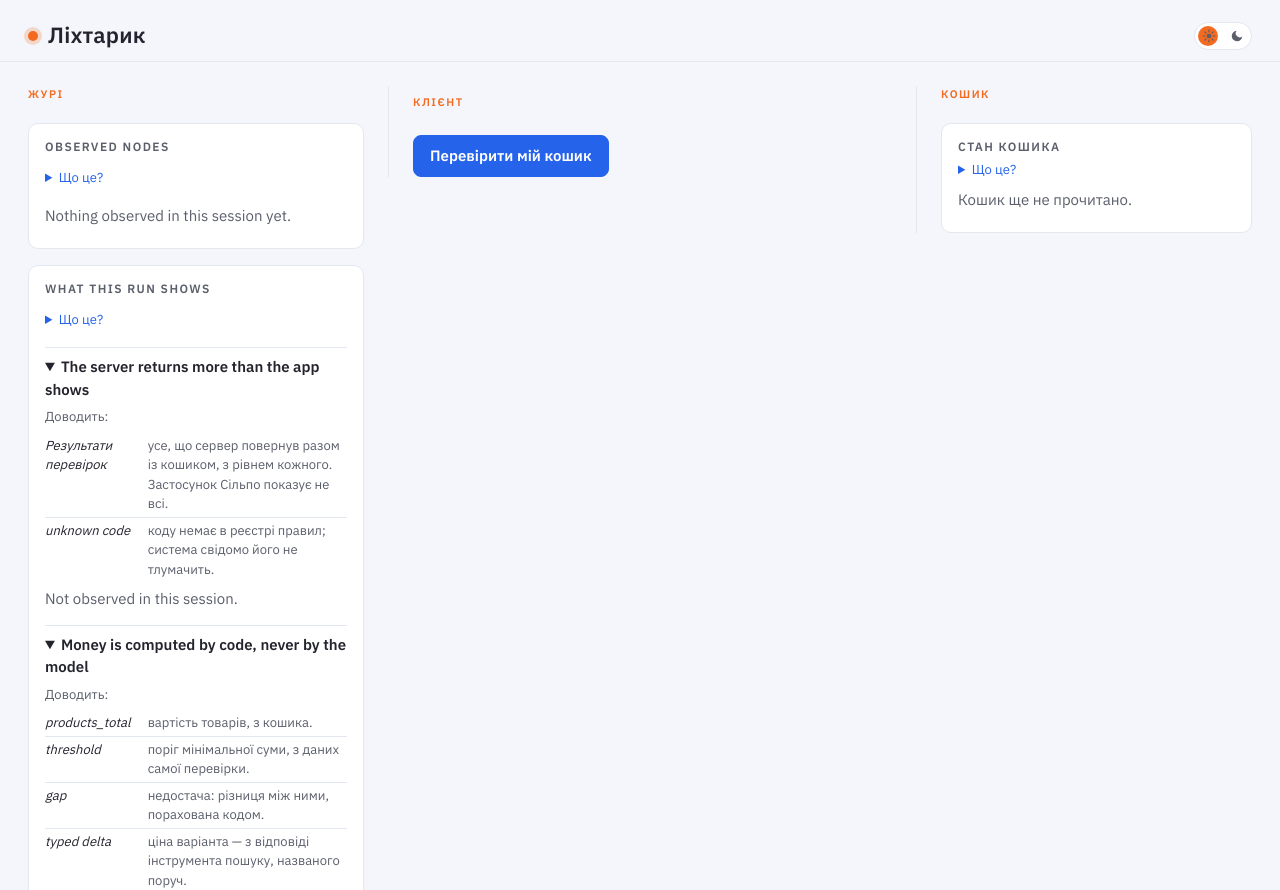
it: recovery card › keeps round 1's receipt visible through a second consent round
Click the button "Перевірити мій кошик". click: (511, 156)
box: [413,134,609,177]
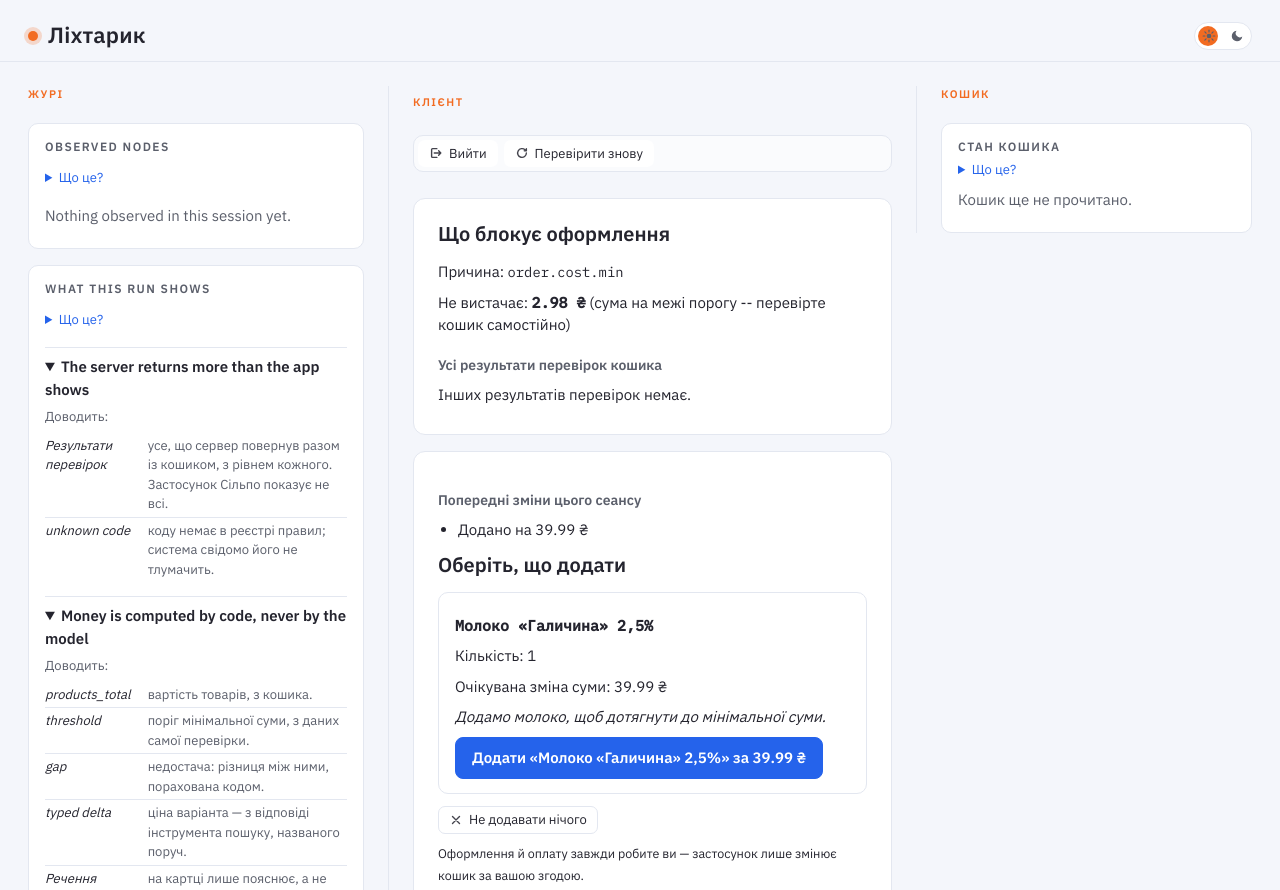
Expected: the element with test id "prior-receipts" is shown, [438,491,641,539]
Expected: the list item with test id "prior-receipt-0" shows "39.99", [458,520,588,539]
Expected: the text "Молоко «Галичина» 2,5%" is shown, [455,616,653,635]
